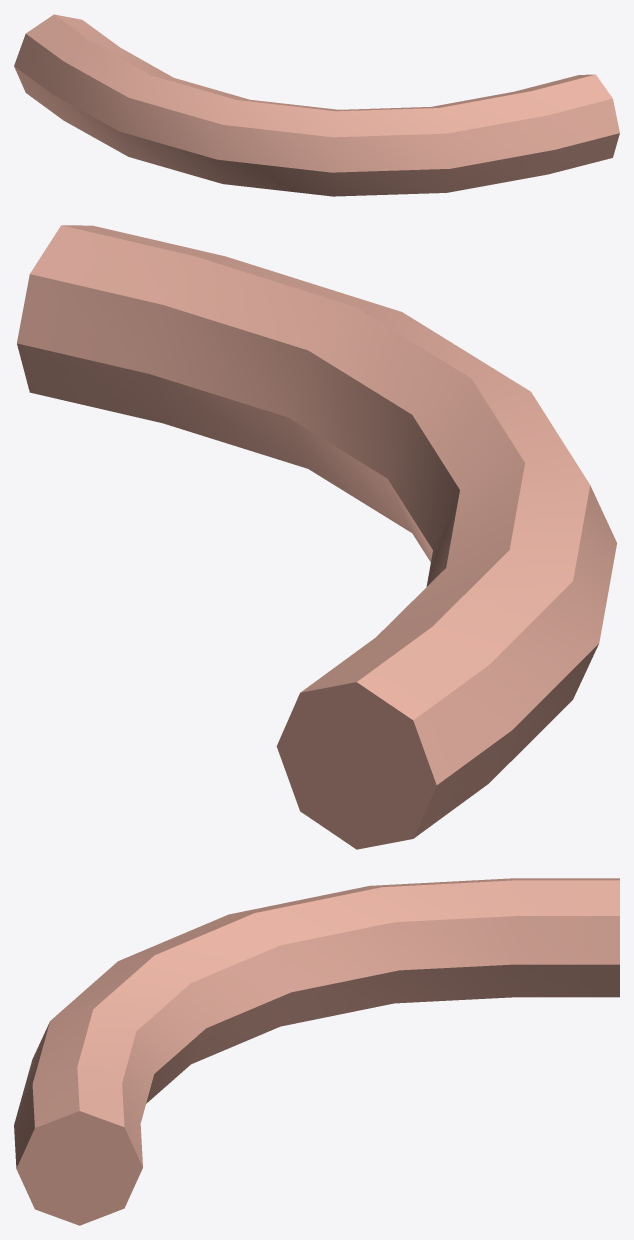
Rendered from trumpet2.fbx.
The picture shows the model from 3 angles, top to bottom: view 1: azimuth 30°, elevation 25°; view 2: azimuth 150°, elevation 25°; view 3: azimuth 270°, elevation 25°; orthographic projection. The views are drawn at different scales.
Parts seen in each view (by area): view 1: Cylinder_4; view 2: Cylinder_4; view 3: Cylinder_4.
Boxes of the visible parts, x1,y1,x2,y2 form: Cylinder_4: [14, 14, 619, 196]; Cylinder_4: [17, 225, 616, 849]; Cylinder_4: [14, 878, 619, 1225].
Size of the model in its own units: 146 by 30.3 by 145.
